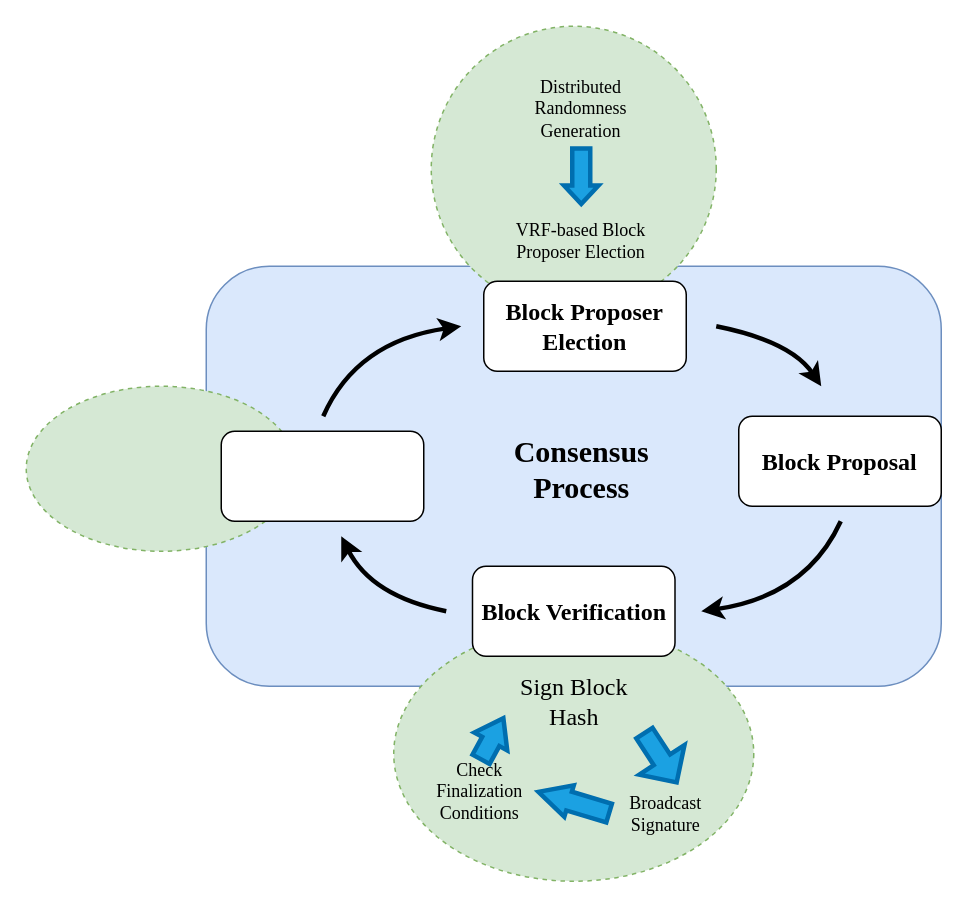
Image size: 968x908. Some labels were removed from this diagram. Here are the shapes that lost their labels. From the top down, the box of each, then its label:
(25, 385, 296, 551): Full Signature Recovery
(220, 430, 424, 521): Block Finalization
